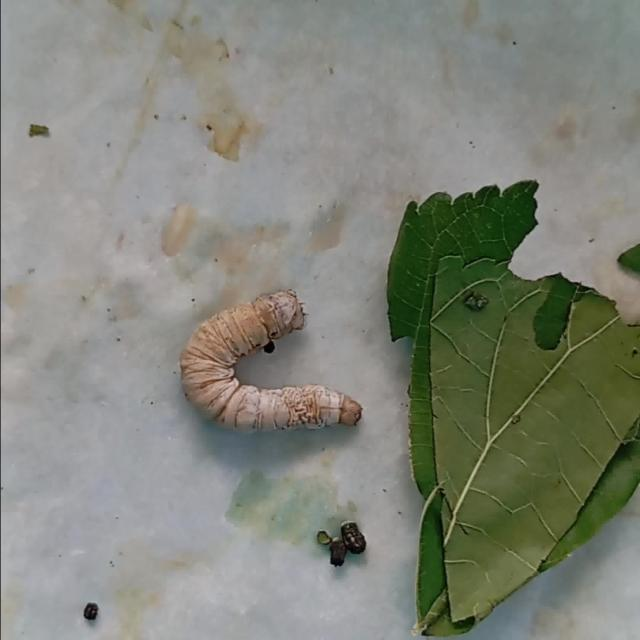Grasserie: (108, 261, 425, 469)
